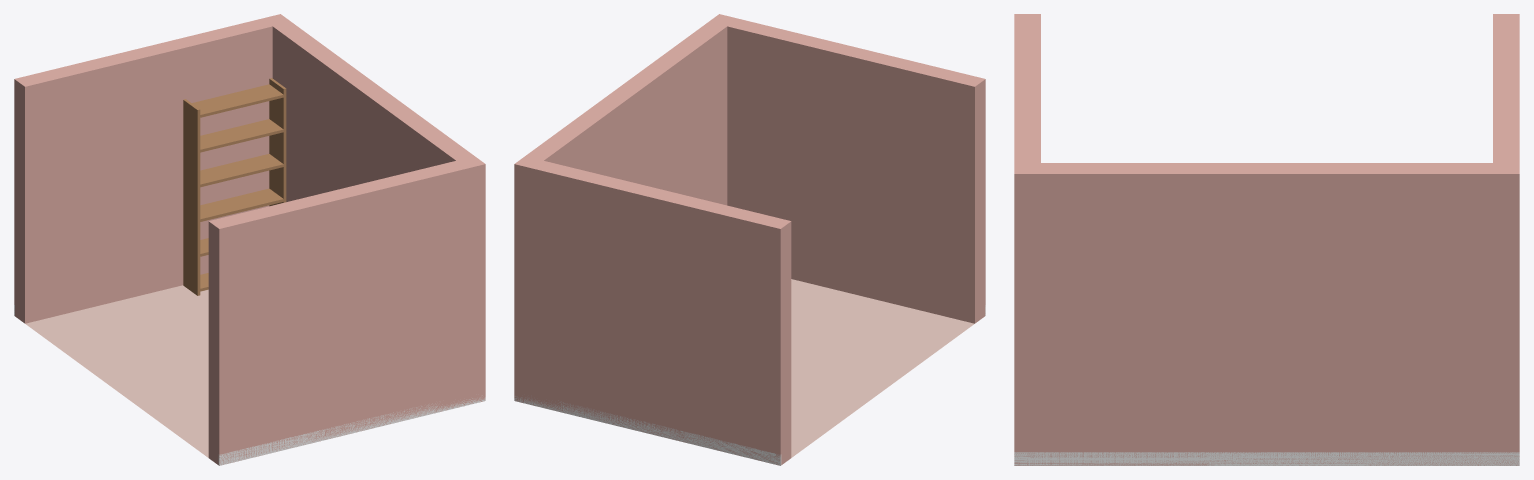
The model's file is room.glb.
The picture shows the model from 3 angles, left to right: view 1: azimuth 30°, elevation 25°; view 2: azimuth 150°, elevation 25°; view 3: azimuth 270°, elevation 25°; orthographic projection. The views are drawn at different scales.
Visible parts, largest first — view 1: Room, Floor, Shelves1, Baseboard; view 2: Room, Floor, Baseboard; view 3: Room, Baseboard.
Boxes of the visible parts, x1,y1,x2,y2 form: Room: [14, 14, 485, 465]; Floor: [25, 285, 208, 457]; Shelves1: [183, 78, 286, 295]; Baseboard: [14, 305, 485, 465]; Room: [514, 14, 985, 465]; Floor: [791, 279, 974, 457]; Baseboard: [514, 305, 985, 465]; Room: [1014, 14, 1519, 465]; Baseboard: [1014, 452, 1519, 465].
Size of the model in its own units: 3 by 2.55 by 4.
